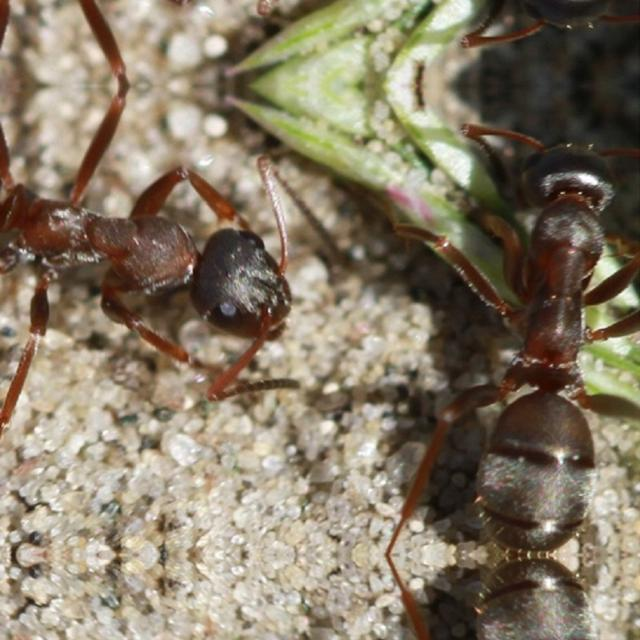Formica: (0, 118, 370, 416), (416, 134, 638, 546)
